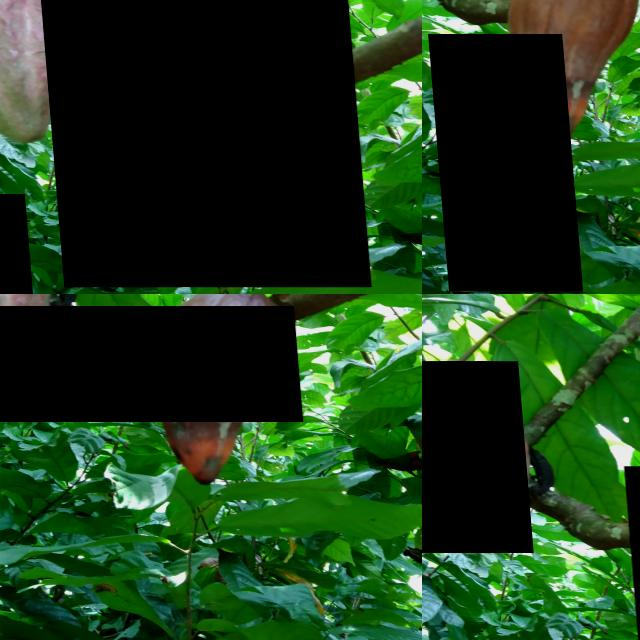Fitoftora: (422, 35, 573, 292), (0, 306, 296, 421)
Monilia: (34, 0, 363, 287)
Sana: (422, 361, 527, 552)
